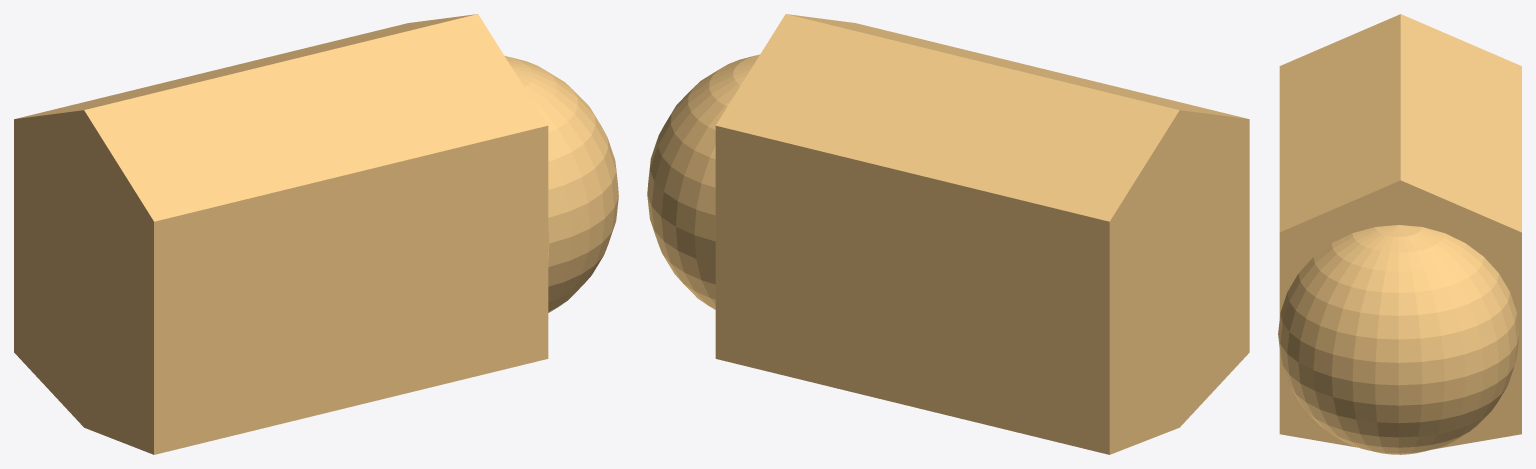
Rendered from R_finger0.obj.
The picture shows the model from 3 angles, left to right: view 1: azimuth 30°, elevation 25°; view 2: azimuth 150°, elevation 25°; view 3: azimuth 270°, elevation 25°; orthographic projection. The views are drawn at different scales.
Visible parts, largest first — view 1: finger0球.001_球.027; view 2: finger0球.001_球.027; view 3: finger0球.001_球.027.
Part boxes in pixels (x1,y1,x2,y2): finger0球.001_球.027: (14,14,618,454); finger0球.001_球.027: (647,14,1249,454); finger0球.001_球.027: (1278,14,1521,454).
Bounding box in the file's own units: 0.9293 × 0.5472 × 0.4403.
Materials: 1 (1 with a texture image).
